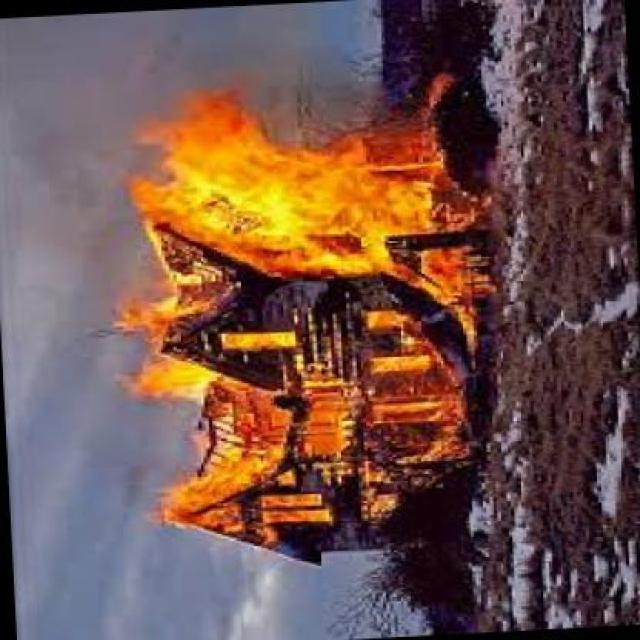Fire: (115, 103, 497, 552)
Smoke: (5, 101, 109, 335), (4, 20, 336, 80)
